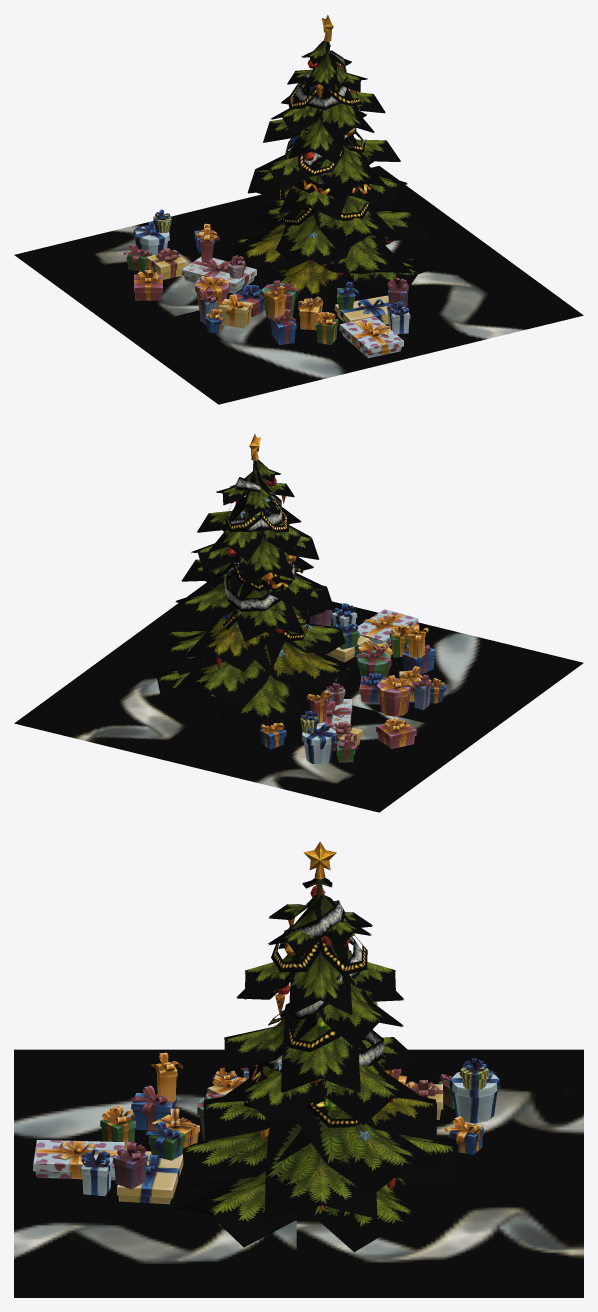
Rendered from A4K1Y4K3C1Z70LAHKJVLKZEFP.obj.
3 views of the same model, one above another, from view 1: azimuth 30°, elevation 25°; view 2: azimuth 150°, elevation 25°; view 3: azimuth 270°, elevation 25° (orthographic). The views are drawn at different scales.
Parts seen in each view (by area): view 1: Object_TexMap_0; view 2: Object_TexMap_0; view 3: Object_TexMap_0.
Part boxes in pixels (box(x1,y1,x2,y2)): Object_TexMap_0: box(14, 14, 583, 404); Object_TexMap_0: box(14, 434, 583, 812); Object_TexMap_0: box(14, 841, 583, 1297).
Bounding box in the file's own units: 2.5 × 1.72 × 2.43.
1 material, 1 textured.
